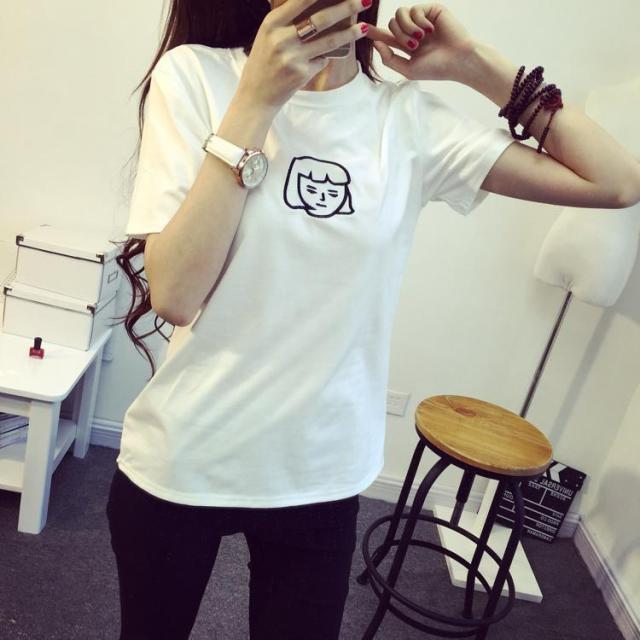short sleeve top: (117, 49, 519, 507)
trousers: (108, 387, 358, 638)
